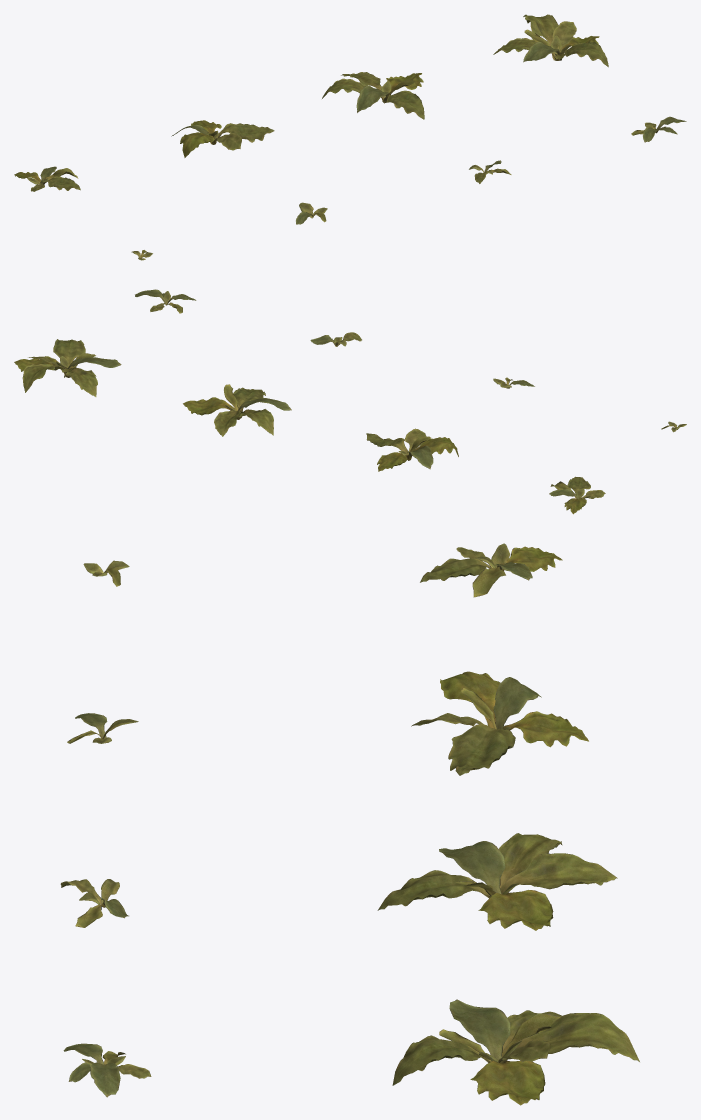
Rendered from crystalline_iceplant.glb.
The picture shows the model from 3 angles, top to bottom: view 1: azimuth 30°, elevation 25°; view 2: azimuth 150°, elevation 25°; view 3: azimuth 270°, elevation 25°; orthographic projection. The views are drawn at different scales.
Parts seen in each view (by area): view 1: crystalline_iceplant_a_LOD0; view 2: crystalline_iceplant_a_LOD0; view 3: crystalline_iceplant_a_LOD0.
Boxes of the visible parts, x1,y1,x2,y2 form: crystalline_iceplant_a_LOD0: (14, 14, 686, 260); crystalline_iceplant_a_LOD0: (14, 289, 686, 514); crystalline_iceplant_a_LOD0: (60, 543, 639, 1105).
Bounding box in the file's own units: 1.69 × 0.0821 × 0.7379.
1 material, 1 textured.
